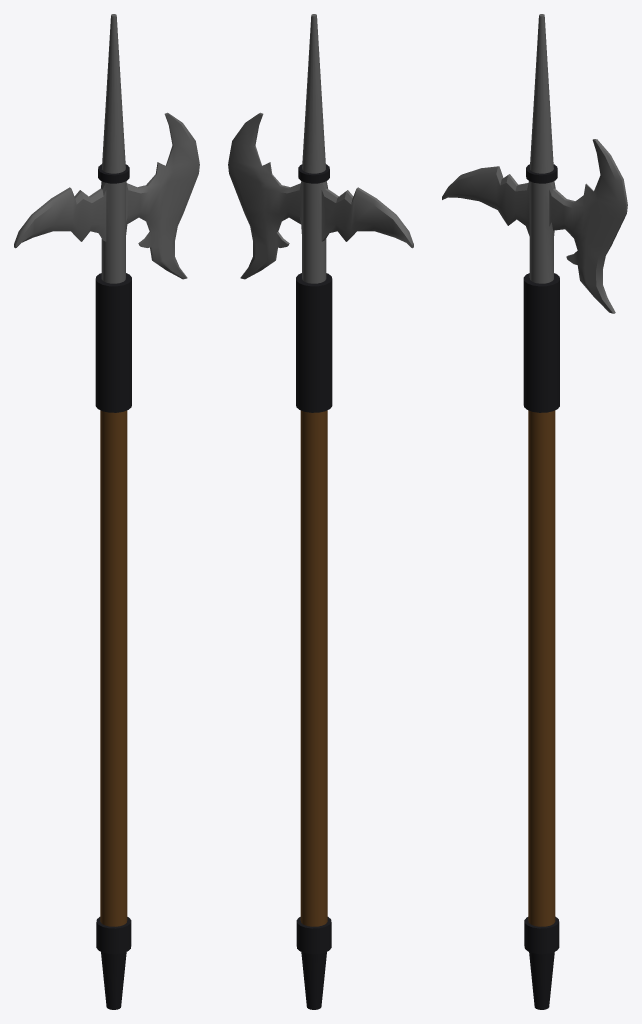
Rendered from Enemy_Halberd.glb.
The picture shows the model from 3 angles, left to right: view 1: azimuth 30°, elevation 25°; view 2: azimuth 150°, elevation 25°; view 3: azimuth 330°, elevation 25°; orthographic projection.
Parts seen in each view (by area): view 1: Halberd.001; view 2: Halberd.001; view 3: Halberd.001.
Part boxes in pixels (box(x1,y1,x2,y2)): Halberd.001: box(14, 14, 199, 1009); Halberd.001: box(228, 14, 413, 1009); Halberd.001: box(442, 14, 627, 1009).
Bounding box in the file's own units: 0.7777 × 4 × 0.1347.
